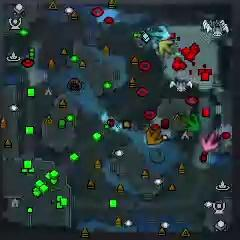x1: (200, 133, 219, 151)
x2: (158, 40, 174, 56)
x3: (150, 25, 169, 41)
x4: (182, 115, 200, 132)
x5: (146, 129, 161, 144)
